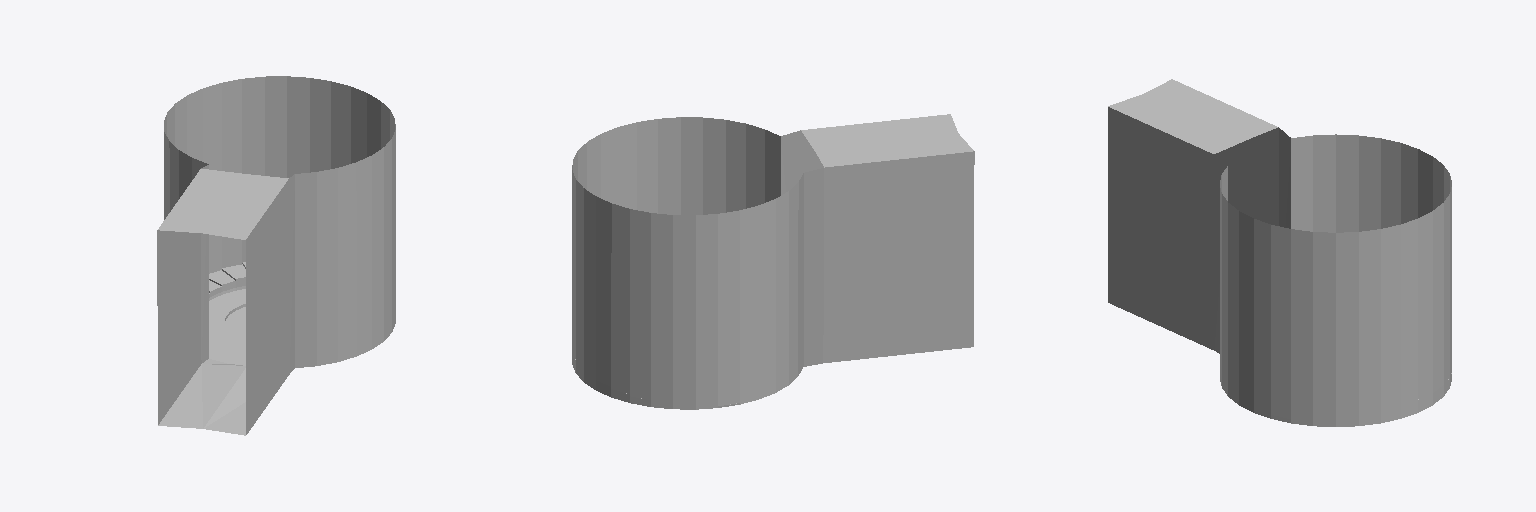
File: cult_ritual_room.obj
The picture shows the model from 3 angles: view 1: azimuth 30°, elevation 25°; view 2: azimuth 150°, elevation 25°; view 3: azimuth 270°, elevation 25°; orthographic projection.
Parts seen in each view (by area): view 1: ritual_room_Mesh; view 2: ritual_room_Mesh; view 3: ritual_room_Mesh.
Part boxes in pixels (x1,y1,x2,y2): ritual_room_Mesh: (157,76,395,435); ritual_room_Mesh: (572,114,974,409); ritual_room_Mesh: (1108,79,1451,426).
Size of the model in its own units: 17.4 by 11.16 by 17.03.